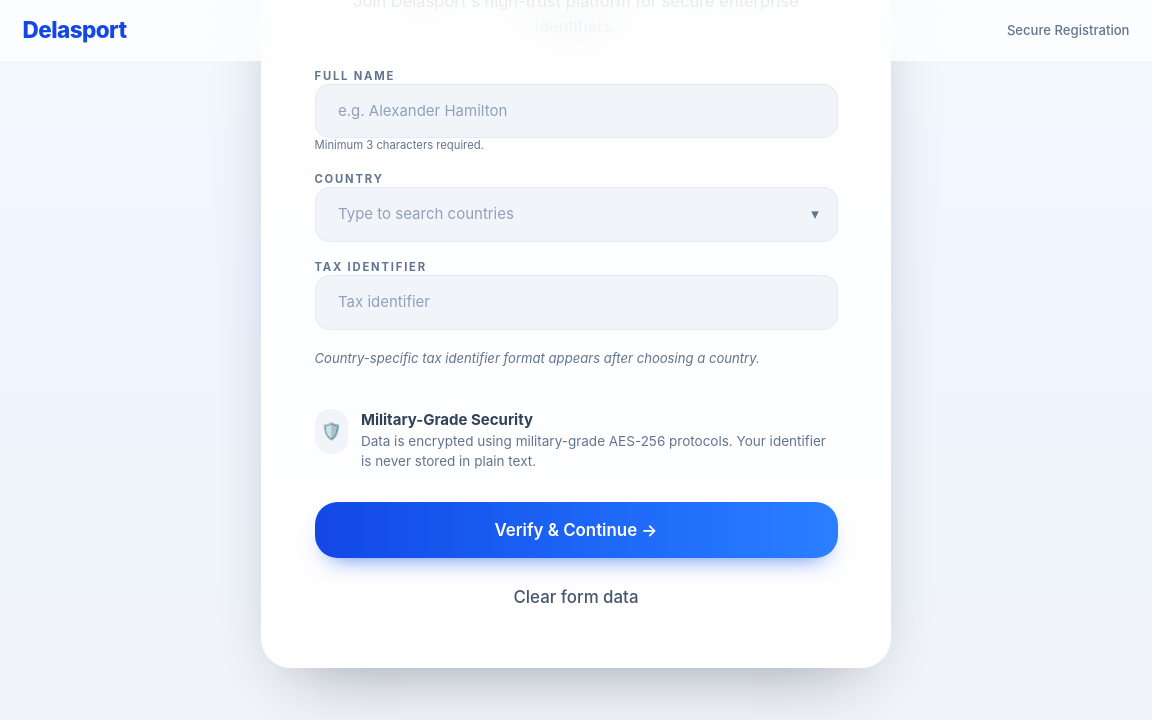
Test: Registration form › shows validation errors for each required field
(page scrolled)
Click the button "Verify & Continue →".
click(576, 530)  # box [314,502,838,558]
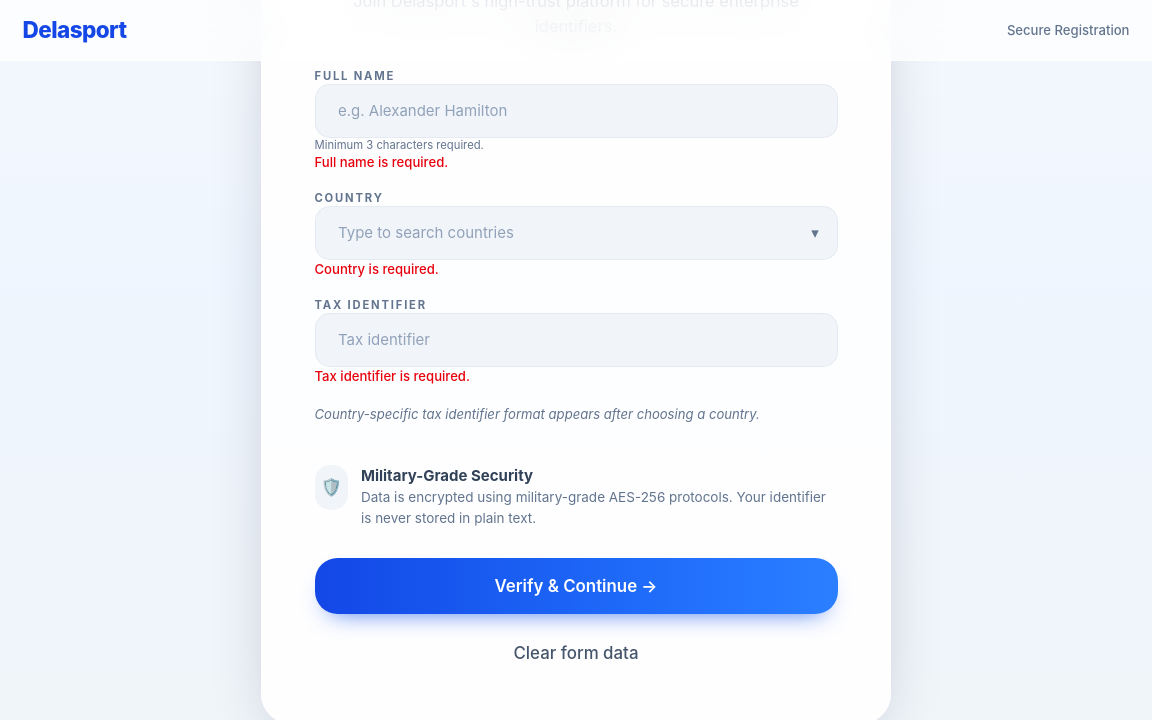
Now the text "Full name is required." is shown, box [314,154,448,170]
Now the text "Country is required." is shown, box [314,261,439,277]
Now the text "Tax identifier is required." is shown, box [314,368,470,384]
